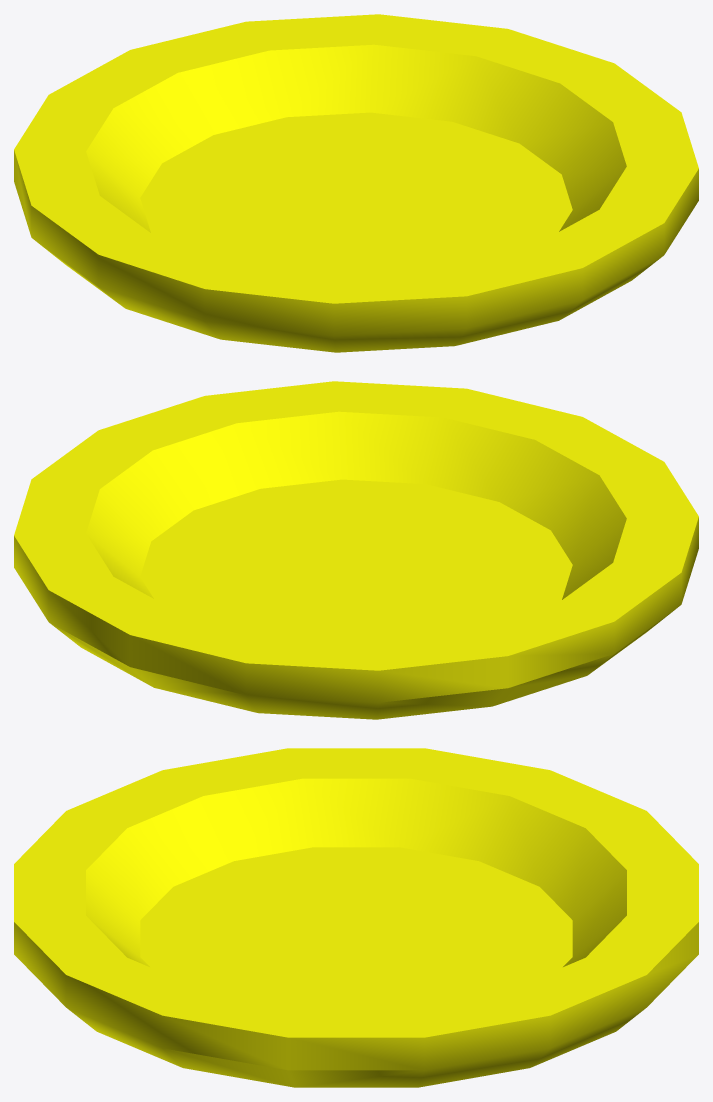
File: plate.gltf
3 renders of one model, top to bottom at view 1: azimuth 30°, elevation 25°; view 2: azimuth 150°, elevation 25°; view 3: azimuth 270°, elevation 25°, orthographic.
Parts seen in each view (by area): view 1: plate; view 2: plate; view 3: plate.
Boxes of the visible parts, box(x1,y1,x2,y2) form: plate: box(14, 14, 698, 352); plate: box(14, 381, 698, 719); plate: box(14, 748, 698, 1087).
Bounding box in the file's own units: 0.95 × 0.1 × 0.95.
1 material, 1 textured.
